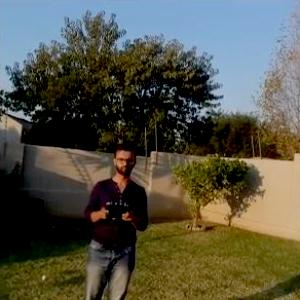follow: (76, 130, 154, 299)
